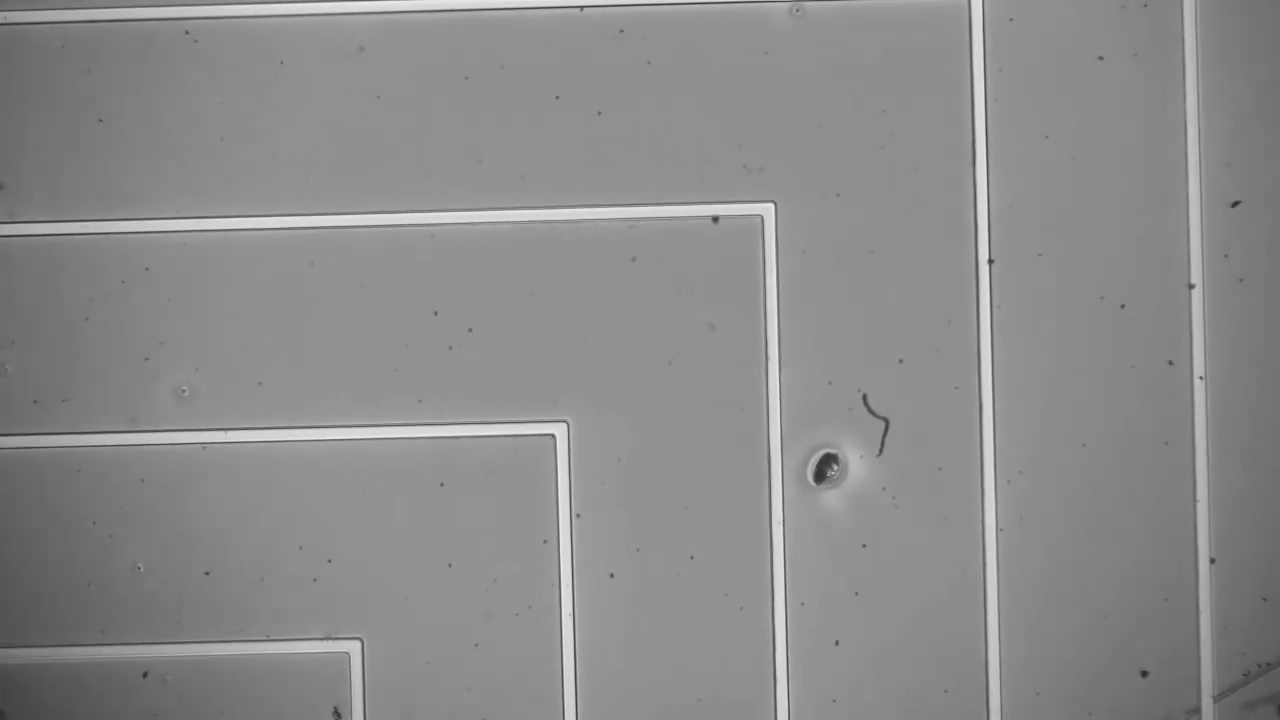scratch: (1191, 646, 1274, 719)
